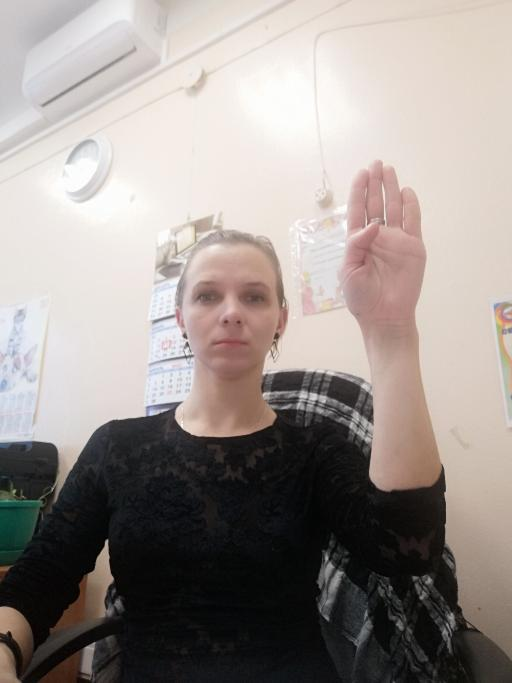stop: (337, 157, 428, 322)
